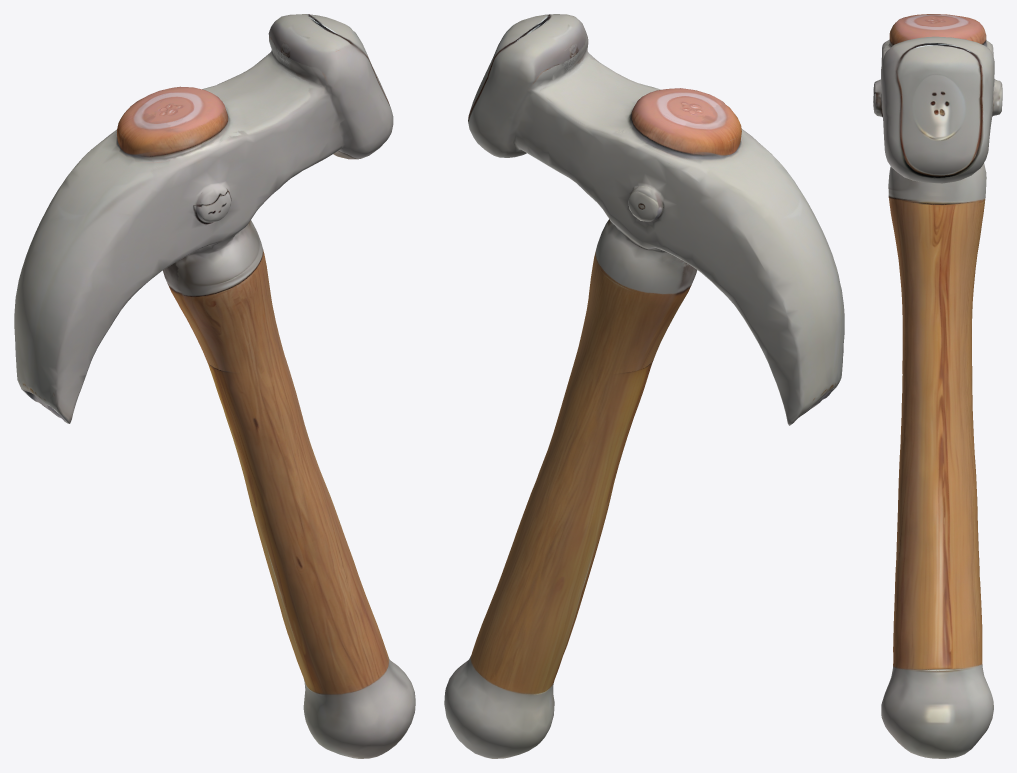
Rendered from tool.glb.
3 views of the same model, side by side, from view 1: azimuth 30°, elevation 25°; view 2: azimuth 150°, elevation 25°; view 3: azimuth 270°, elevation 25° (orthographic). The views are drawn at different scales.
Bounding box in the file's own units: 1.09 × 2.01 × 0.3397.
Materials: 1 (1 with a texture image).
